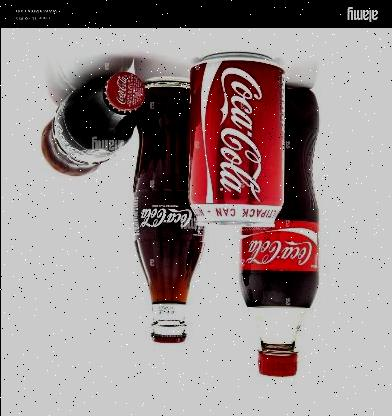Can: (186, 51, 286, 227)
Others: (130, 81, 204, 342), (40, 70, 144, 176)
Plastic Bottle: (236, 86, 322, 378)
